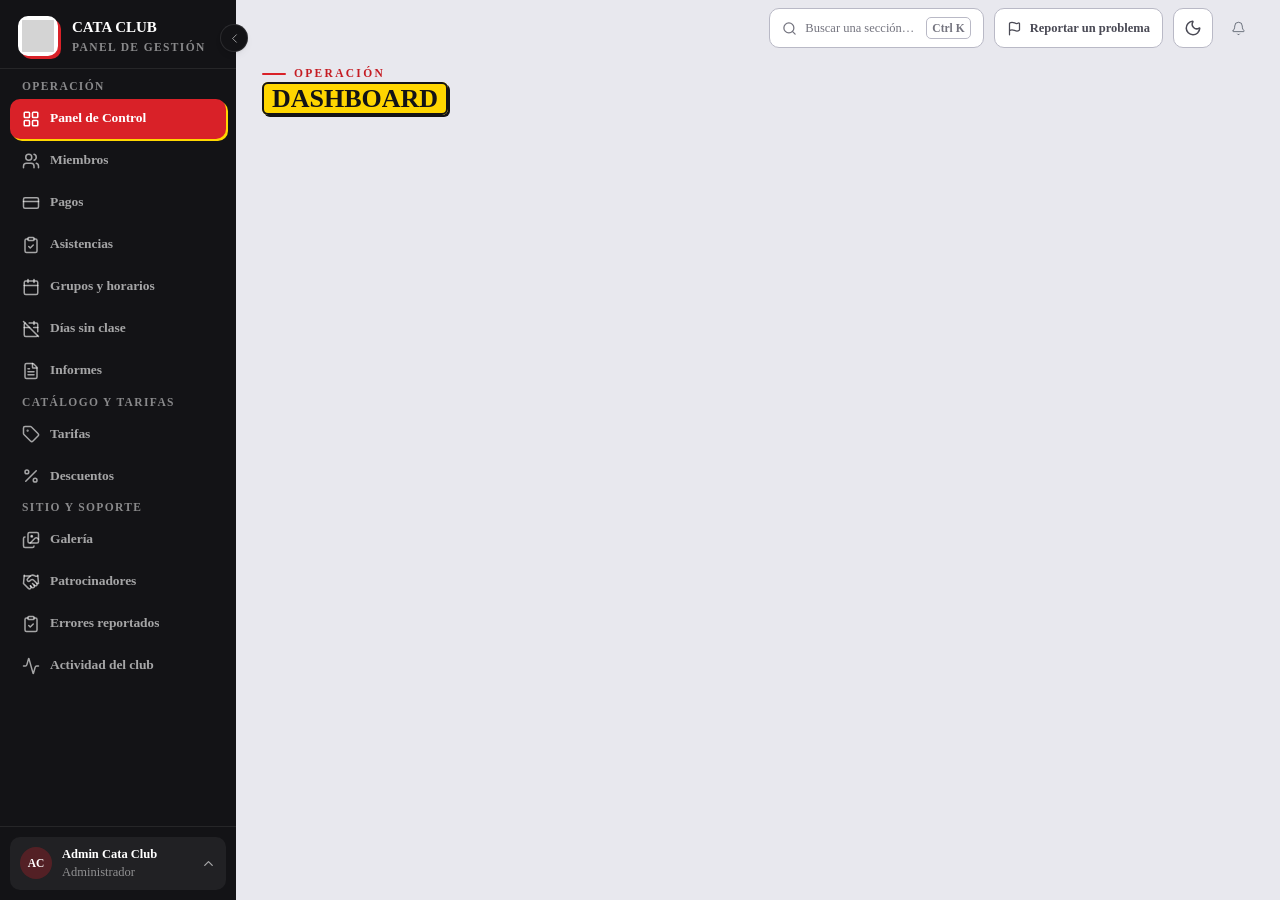
Test: AppShell › closes the command palette with Escape
Click the button with aria-label "Buscar secciones".
click(877, 28)  # box [769,8,984,48]
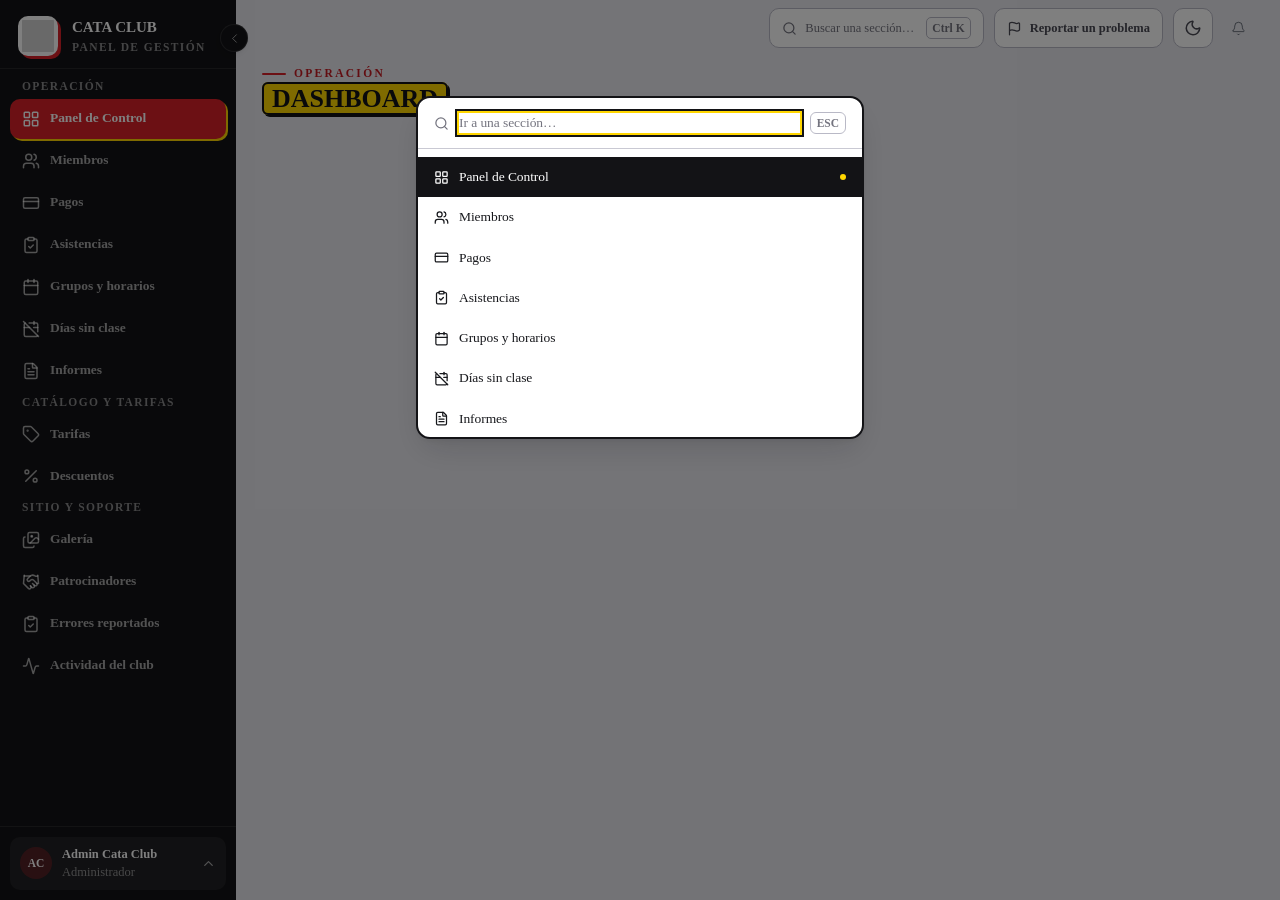
Check: the dialog is shown, box [416,96,864,439]
Press Escape
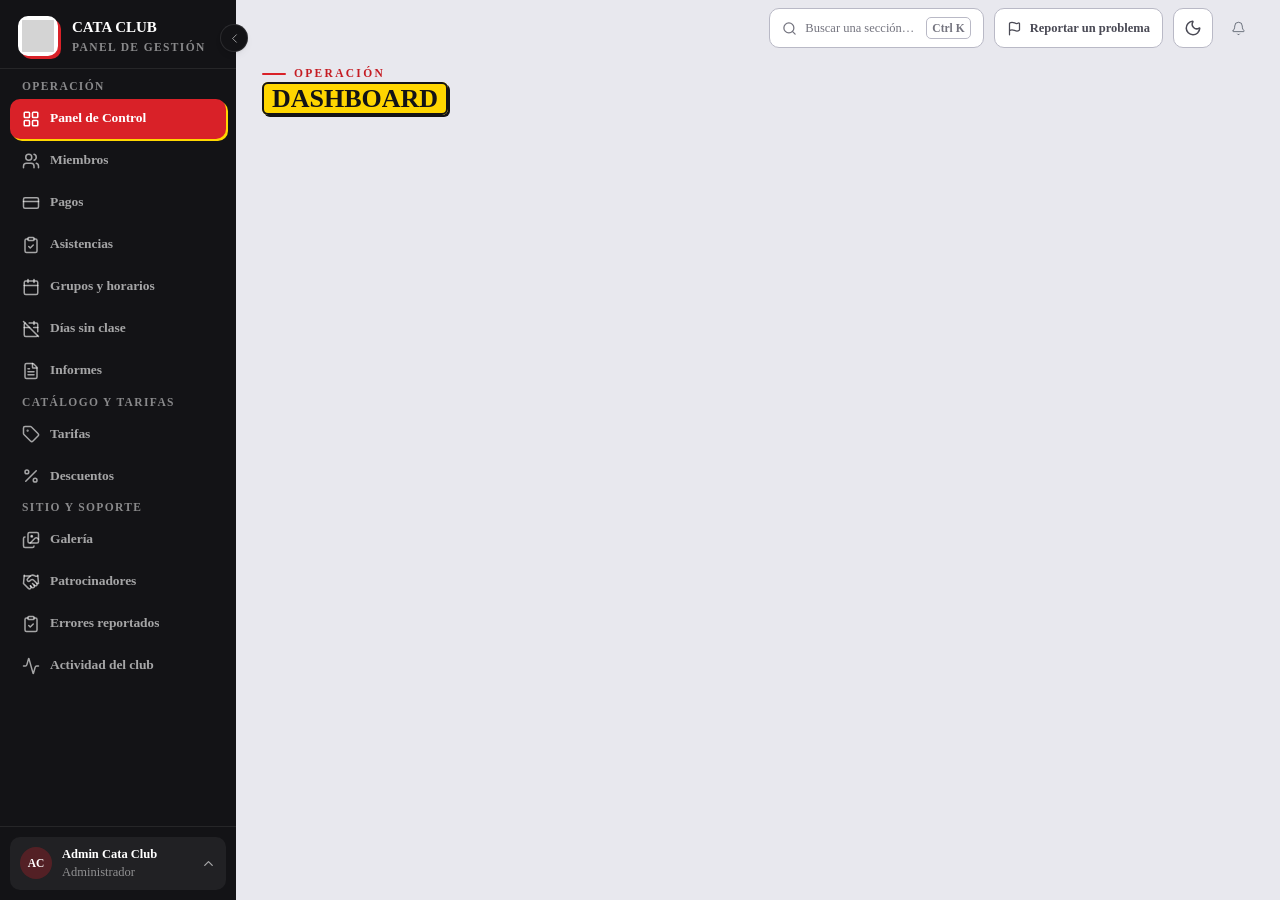
Check: the dialog is gone
